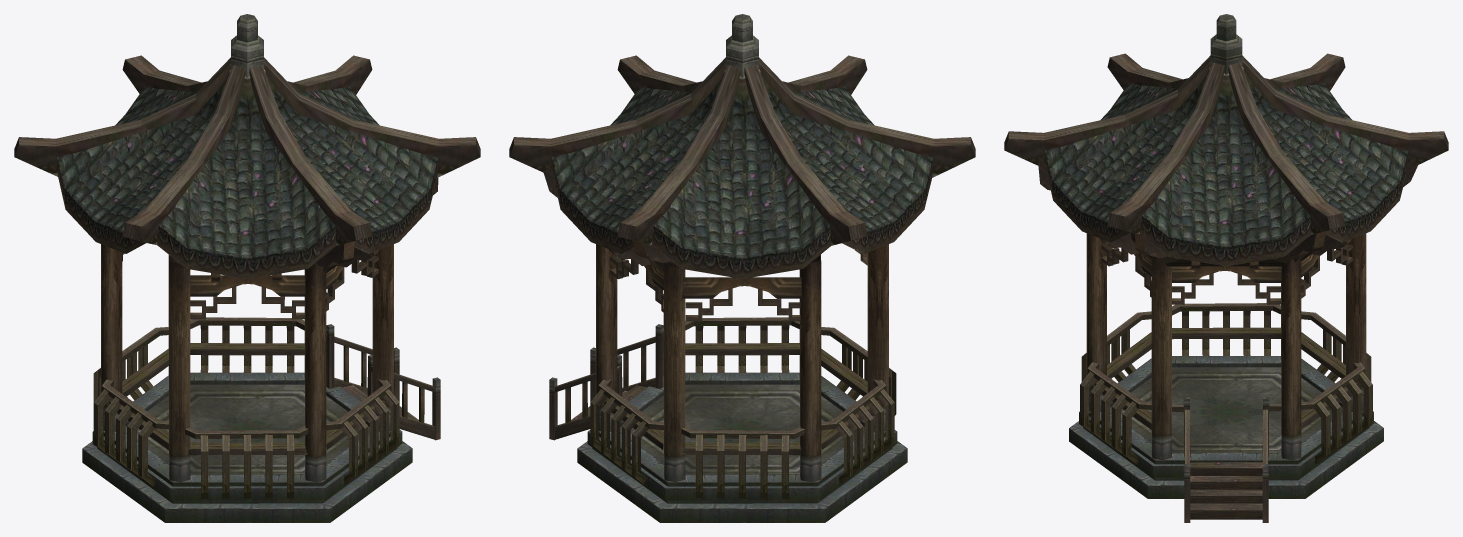
The model's file is SC001Jjianzhu_42.FBX.
3 renders of one model, left to right at view 1: azimuth 30°, elevation 25°; view 2: azimuth 150°, elevation 25°; view 3: azimuth 270°, elevation 25°, orthographic. The views are drawn at different scales.
Visible parts, largest first — view 1: SC001Jjianzhu_42; view 2: SC001Jjianzhu_42; view 3: SC001Jjianzhu_42.
Boxes of the visible parts, <box> form: SC001Jjianzhu_42: <box>14,14,480,522</box>; SC001Jjianzhu_42: <box>509,14,975,522</box>; SC001Jjianzhu_42: <box>1004,14,1448,522</box>.
Size of the model in its own units: 4.46 by 5.32 by 5.03.
